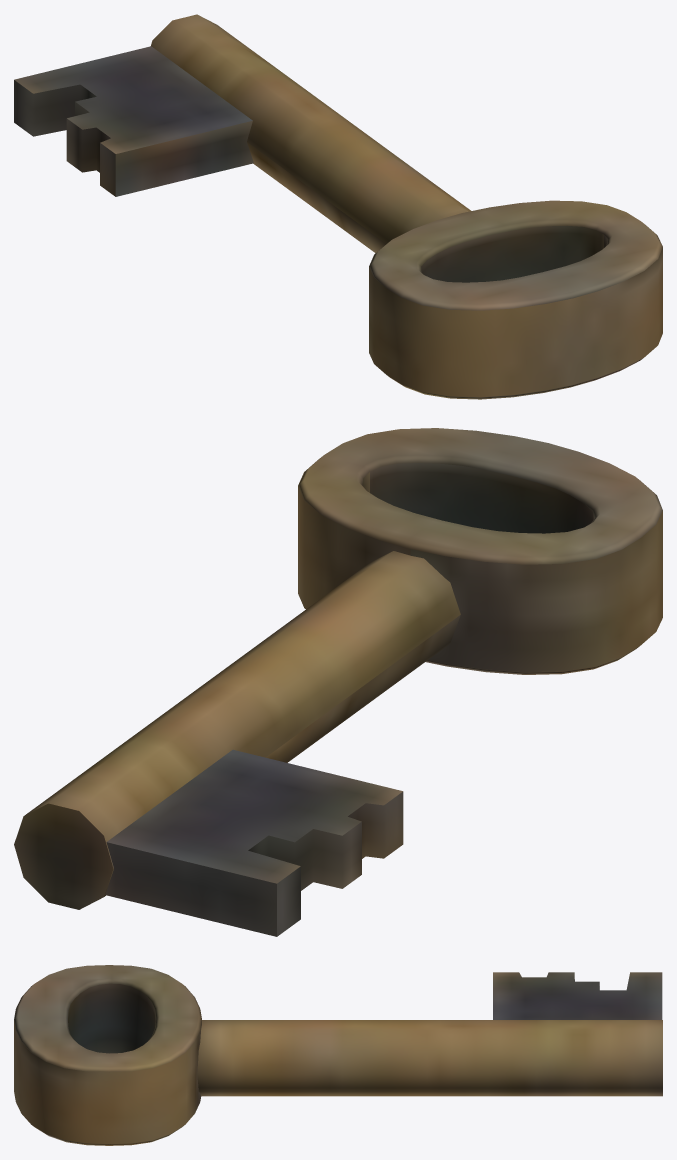
The model's file is SM_Lock_Key.glb.
3 views of the same model, one above another, from view 1: azimuth 30°, elevation 25°; view 2: azimuth 150°, elevation 25°; view 3: azimuth 270°, elevation 25° (orthographic). The views are drawn at different scales.
Parts seen in each view (by area): view 1: SM_Lock_Key; view 2: SM_Lock_Key; view 3: SM_Lock_Key.
Part boxes in pixels (x1,y1,x2,y2): SM_Lock_Key: (14,14,662,399); SM_Lock_Key: (14,428,662,936); SM_Lock_Key: (14,965,662,1145).
Size of the model in its own units: 0.0641 by 0.0195 by 0.1451.
Materials: 1 (1 with a texture image).
